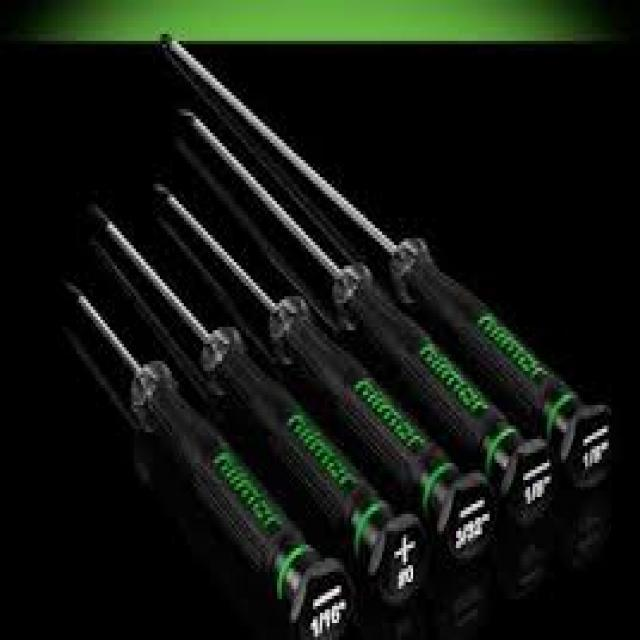screwdriver: (160, 31, 616, 487), (172, 108, 554, 530), (94, 199, 424, 601), (152, 182, 498, 564), (64, 277, 348, 635)
